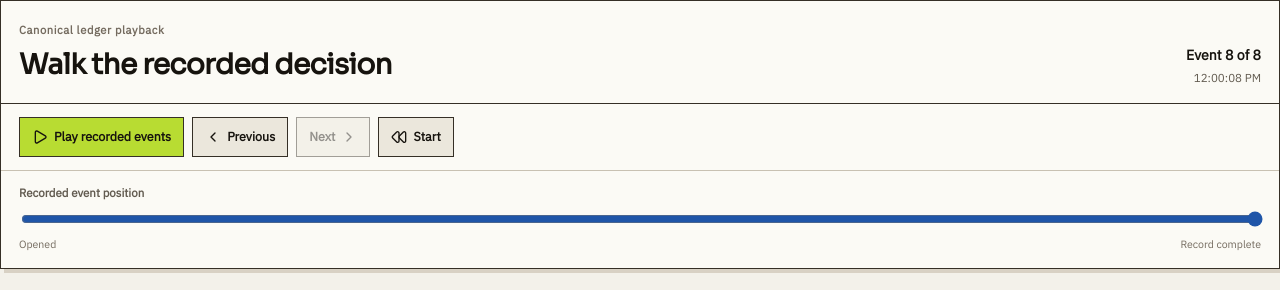
Test: RecordScrubber › restarts a complete record from ordinal zero before playback
Step 1. Click the button "Play recorded events" → [102, 137], box [19,117,184,157]
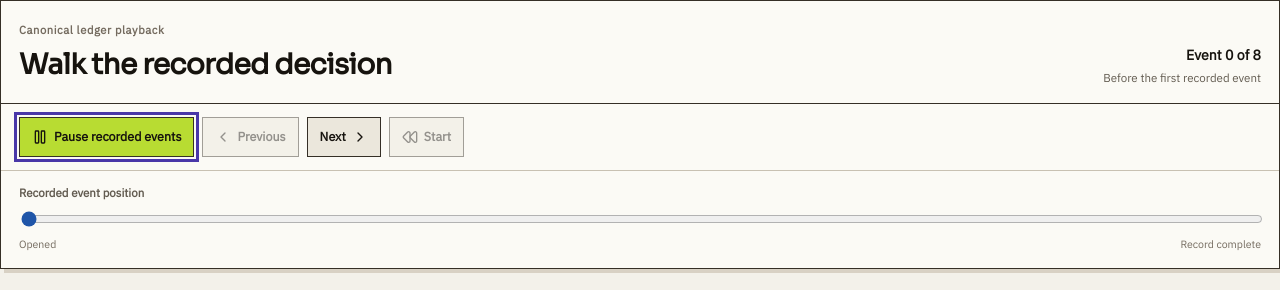
Result: the text "Event 0 of 8" is shown at [1186,45,1261,67]
